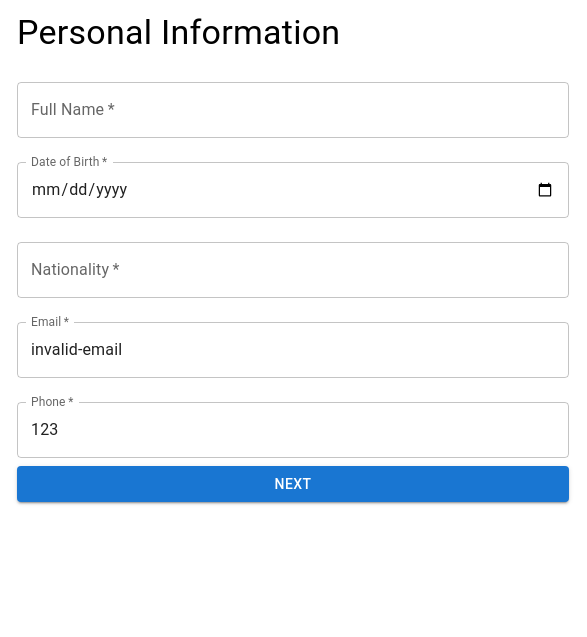
Scenario: PersonalInfoForm › displays error messages for invalid email and phone formats
The image size is (587, 637).
Click the button "Next": (293, 484) [17,466,569,502]
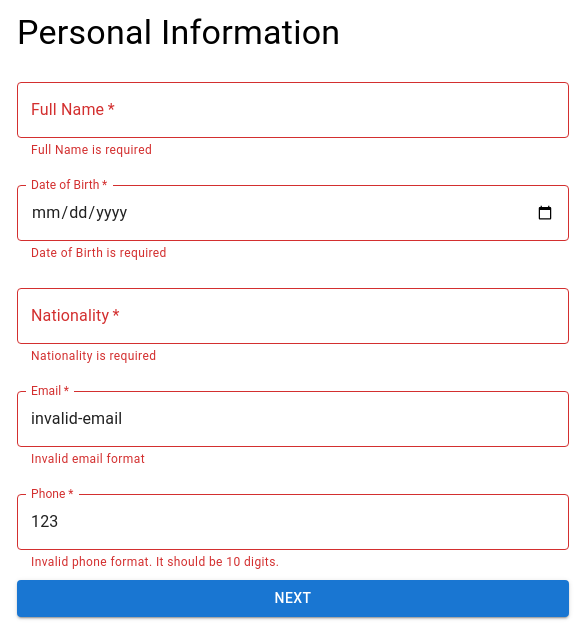
Now the text "Invalid email format" is shown, box [31,452,145,466]
Now the text "Invalid phone format. It should be 10 digits." is shown, box [31,554,279,568]
